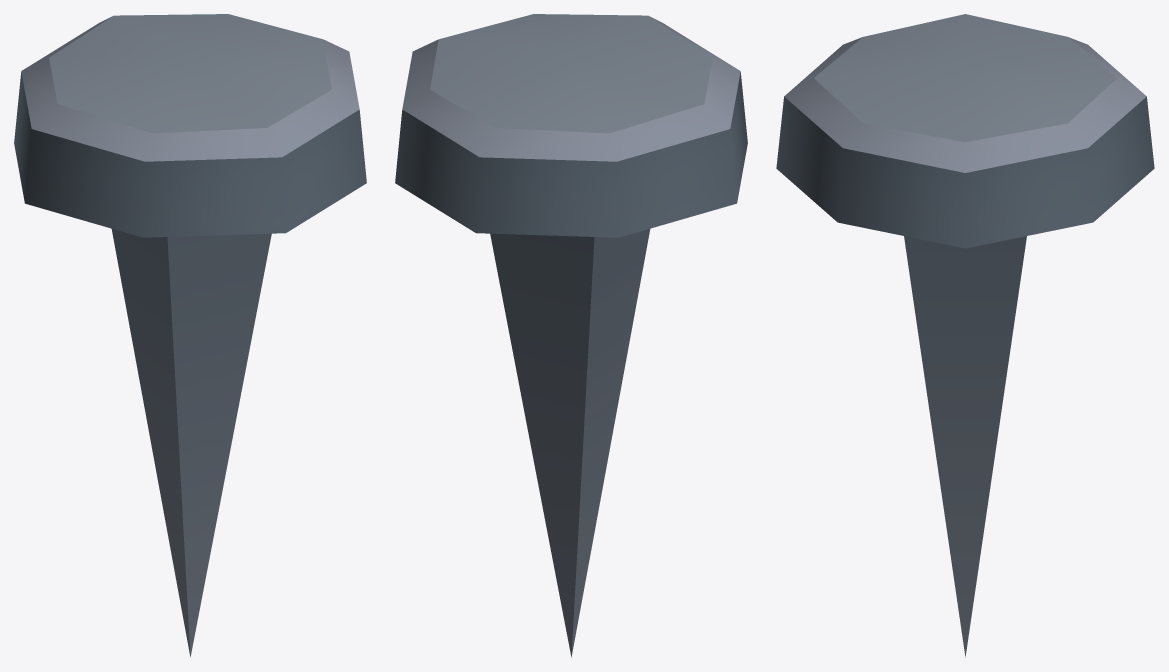
Rendered from Nail_C.glb.
The picture shows the model from 3 angles, left to right: view 1: azimuth 30°, elevation 25°; view 2: azimuth 150°, elevation 25°; view 3: azimuth 270°, elevation 25°; orthographic projection.
Parts seen in each view (by area): view 1: Nail_C; view 2: Nail_C; view 3: Nail_C.
Part boxes in pixels (x1,y1,x2,y2): Nail_C: (14,14,366,657); Nail_C: (395,14,747,657); Nail_C: (776,14,1154,657).
Size of the model in its own units: 0.0888 by 0.1548 by 0.0888.
Materials: 1 (1 with a texture image).
